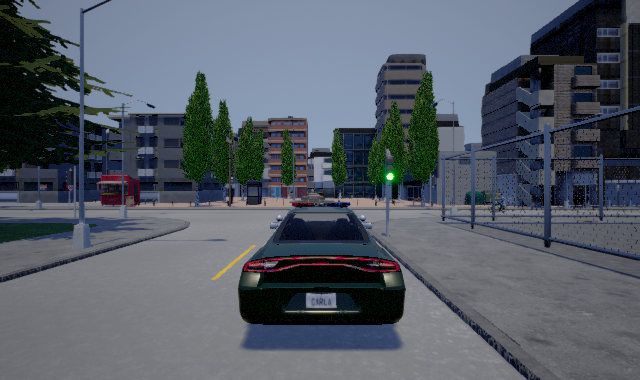traffic_light: (385, 151, 394, 186)
vehicle: (238, 202, 406, 325)
